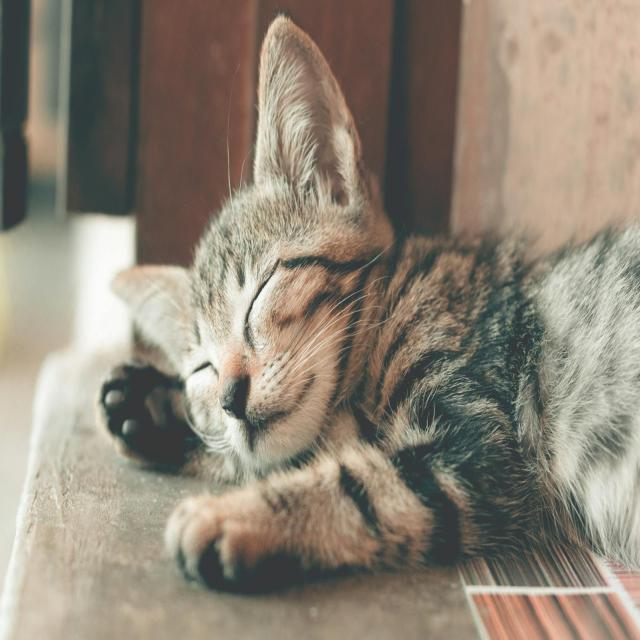Cat: (98, 11, 639, 594)
